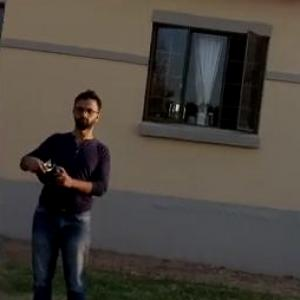follow: (13, 81, 118, 299)
